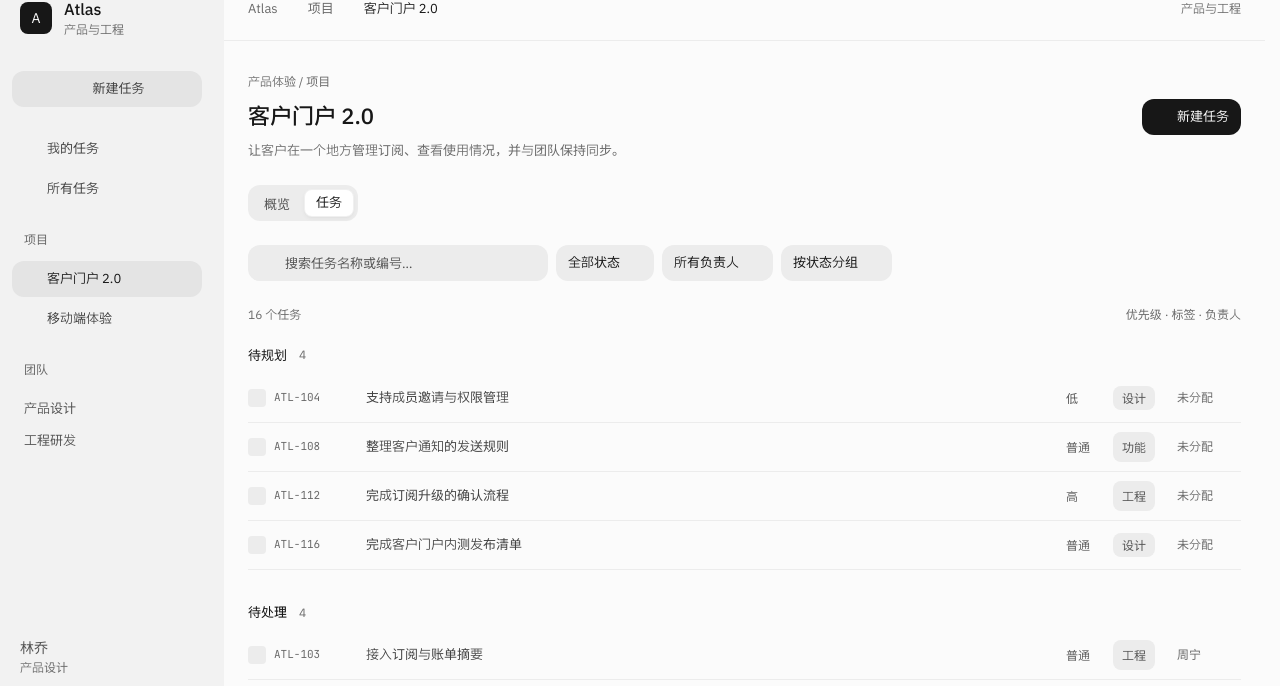
Test: validates a new task and persists its creation
The image size is (1280, 686).
Click the 2nd button "新建任务".
click(1192, 117)  # box [1142,99,1241,135]
(page scrolled)
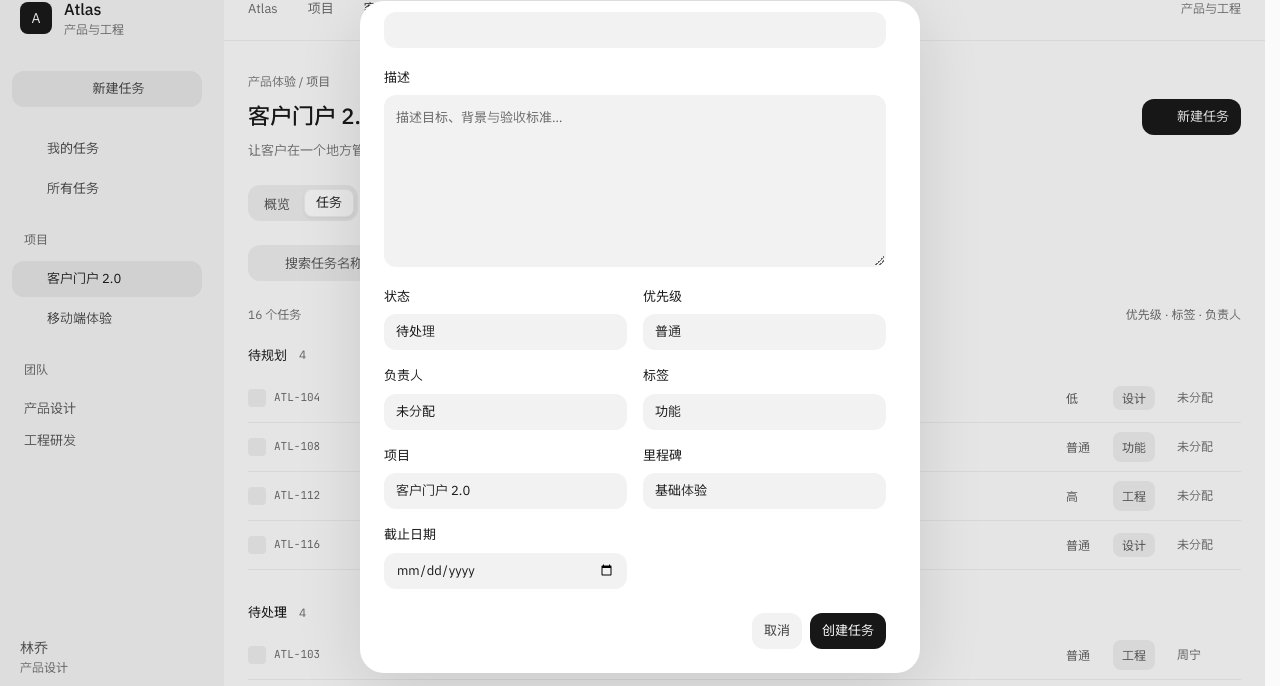
Click the button "创建任务".
click(848, 631)  # box [810,613,886,649]
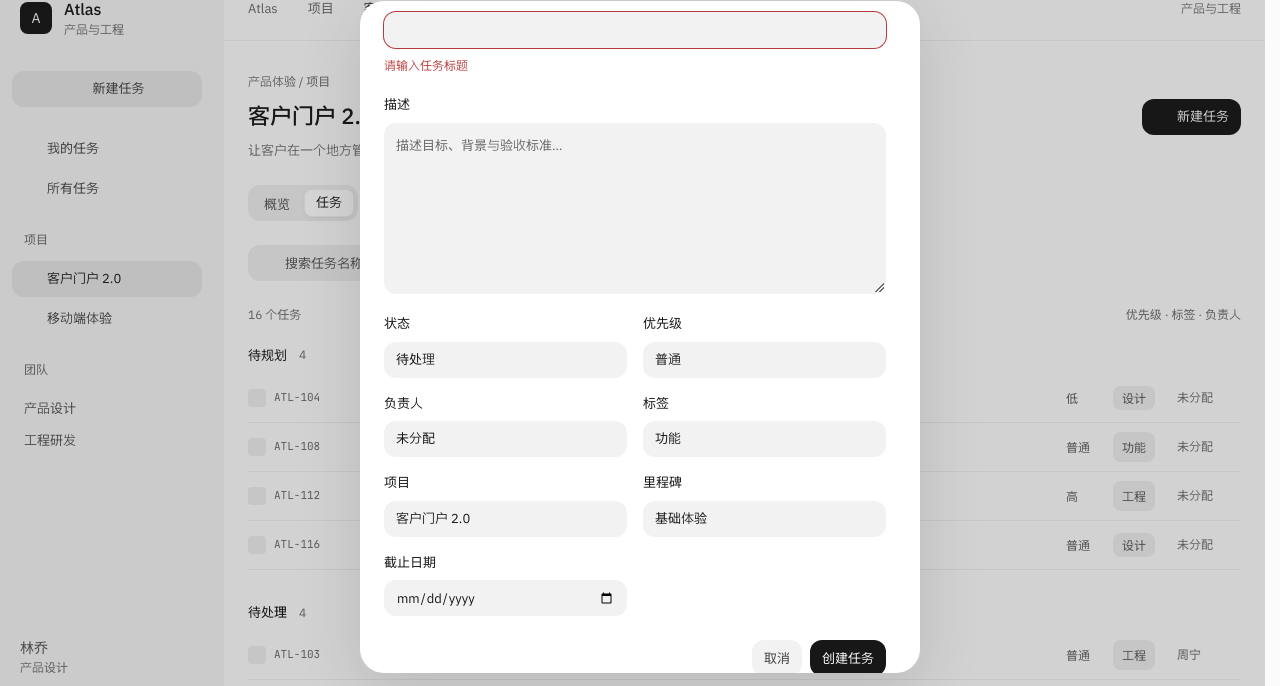
Expected: the text "请输入任务标题" is shown, [384,58,468,72]
Type "添加客户反馈入口" into the field labelled "任务标题 必填".
click(635, 30); type("添加客户反馈入口")  # box [384,12,886,48]
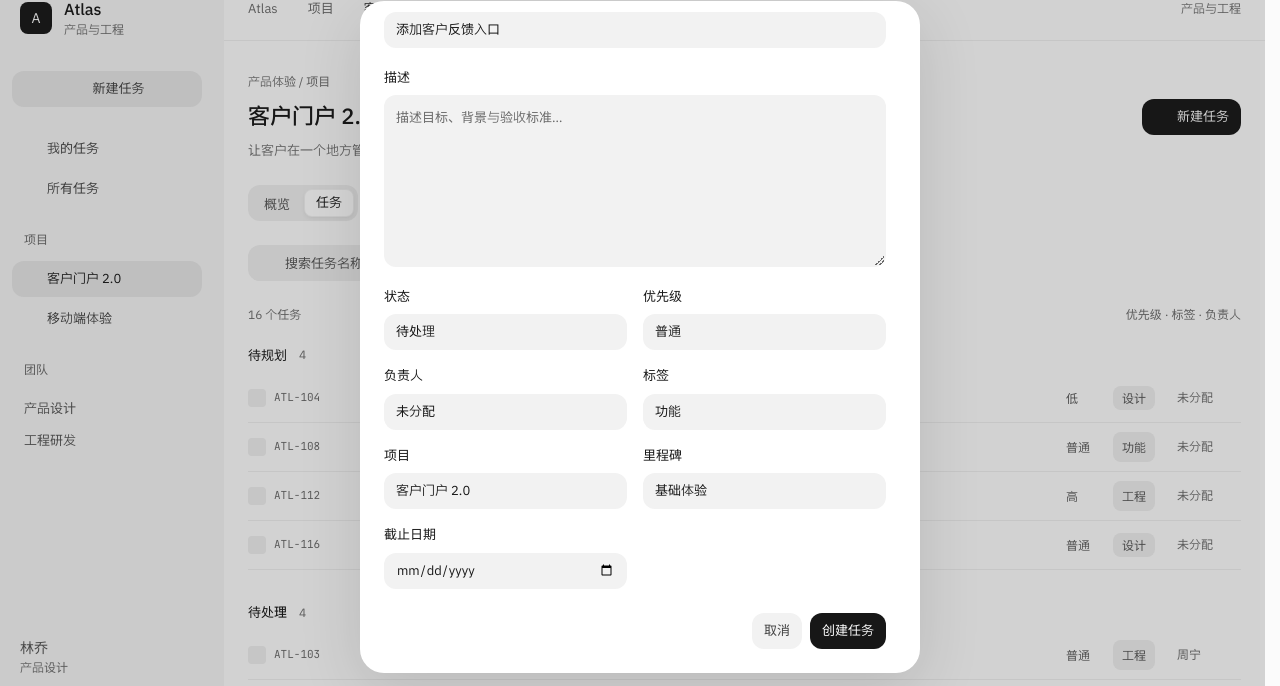
Click the button "创建任务".
click(848, 631)  # box [810,613,886,649]
(page scrolled)
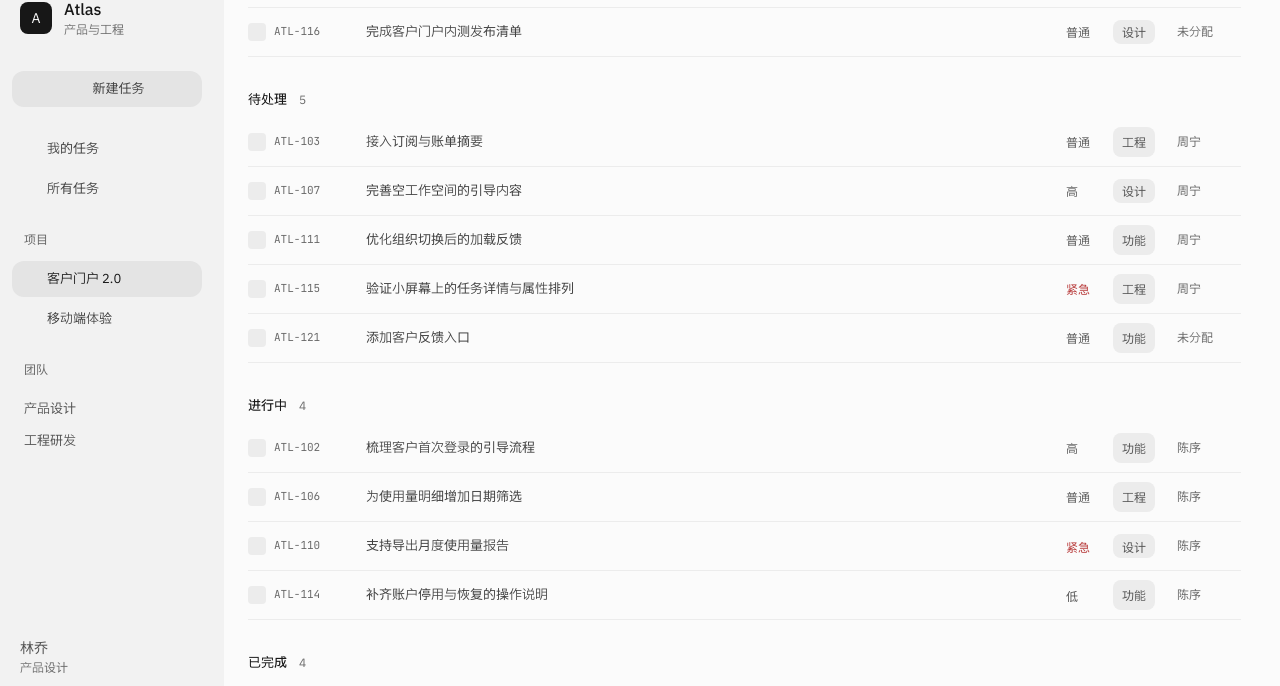
Expected: the button with aria-label "打开 ATL-121 添加客户反馈入口" is shown, [354,320,1049,356]
Expected: the text "添加客户反馈入口" is shown, [366,329,470,346]
